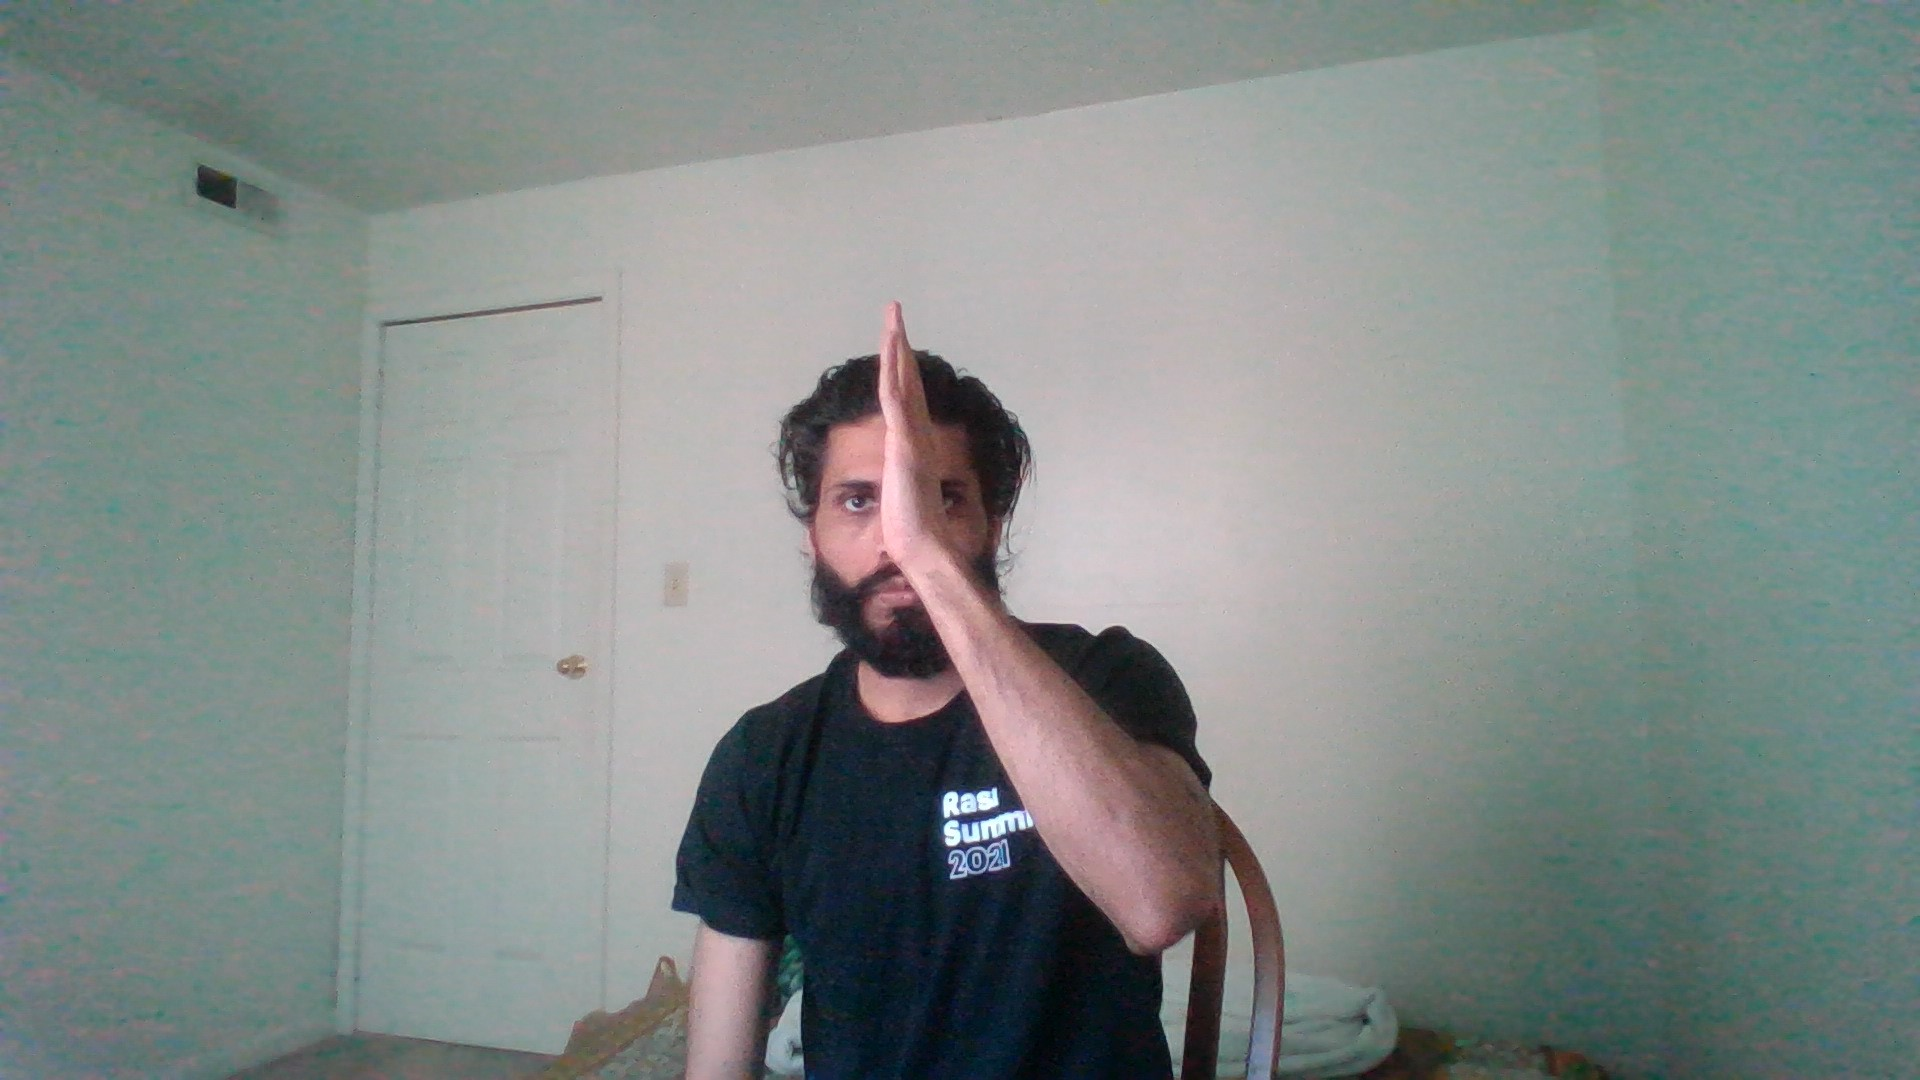Dad: (709, 253, 1072, 632)
